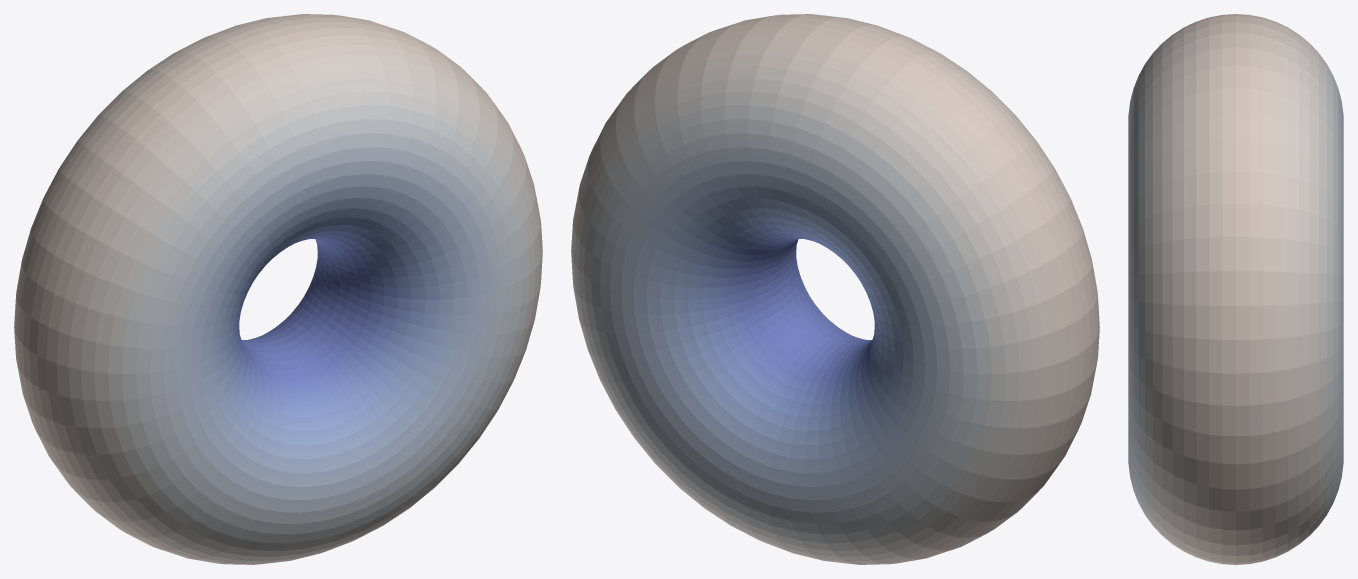
3 views of the same model, side by side, from view 1: azimuth 30°, elevation 25°; view 2: azimuth 150°, elevation 25°; view 3: azimuth 270°, elevation 25° (orthographic). The views are drawn at different scales.
Parts seen in each view (by area): view 1: world; view 2: world; view 3: world.
Part boxes in pixels (x1,y1,x2,y2): world: (14,14,542,564); world: (571,14,1099,564); world: (1128,14,1343,564).
Size of the model in its own units: 20.8 by 20.76 by 8.12.
